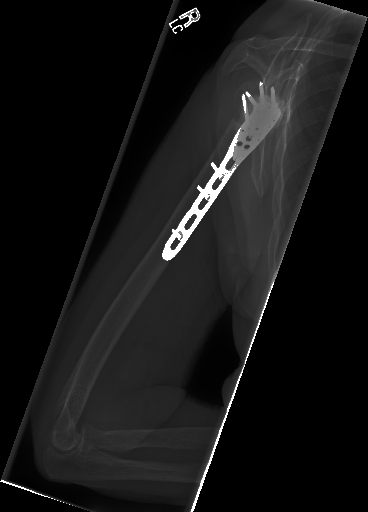implant: (162, 81, 285, 261)
